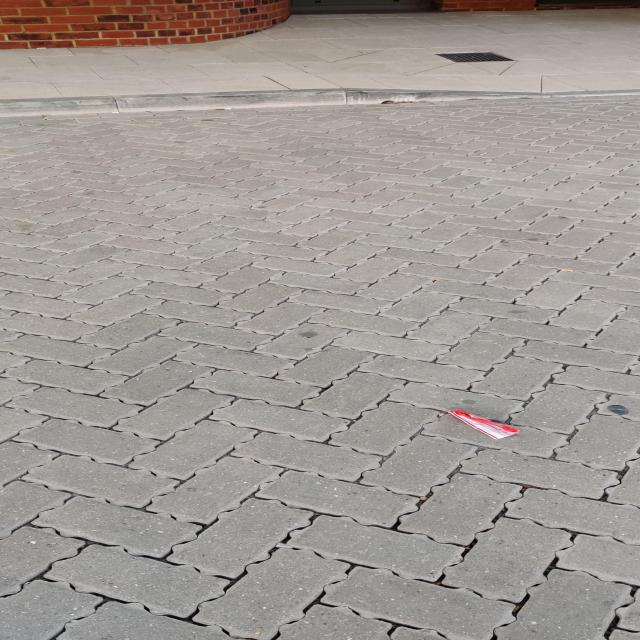litter: (448, 408, 520, 440)
